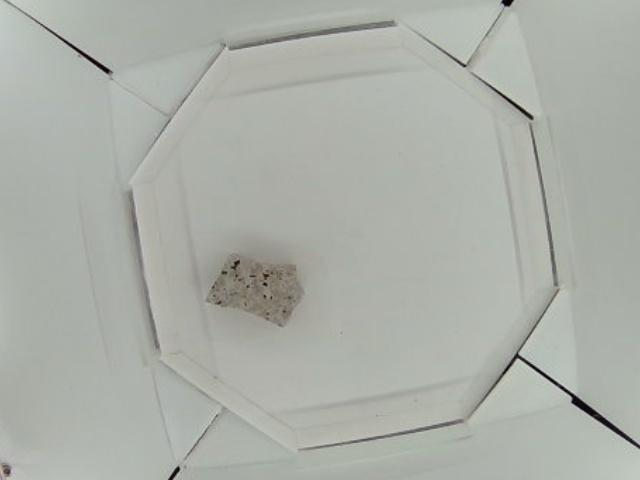China: (202, 253, 307, 326)
